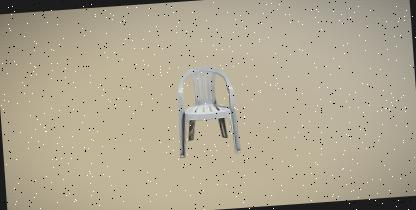chair: (170, 61, 244, 167)
